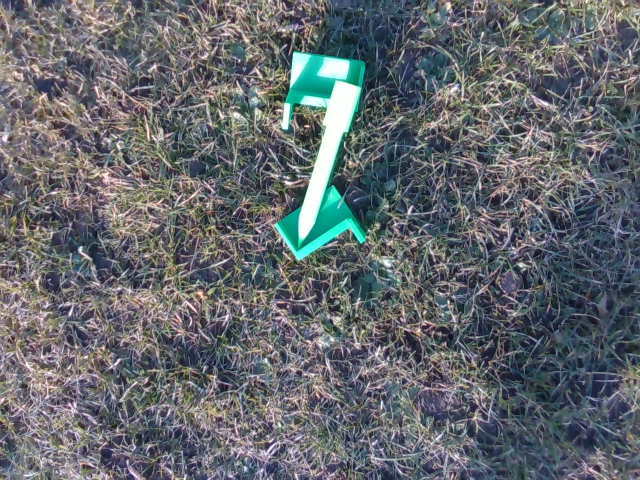Probe: (295, 79, 363, 255)
